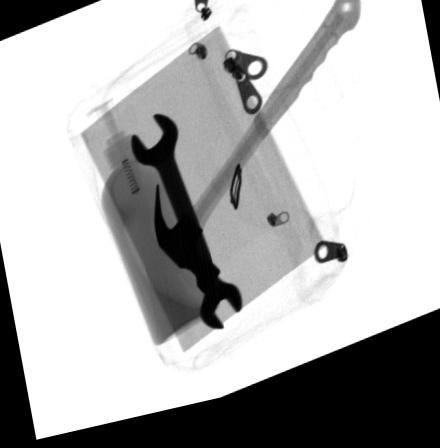Hammer: (150, 0, 363, 308)
Wrench: (129, 118, 242, 340)
